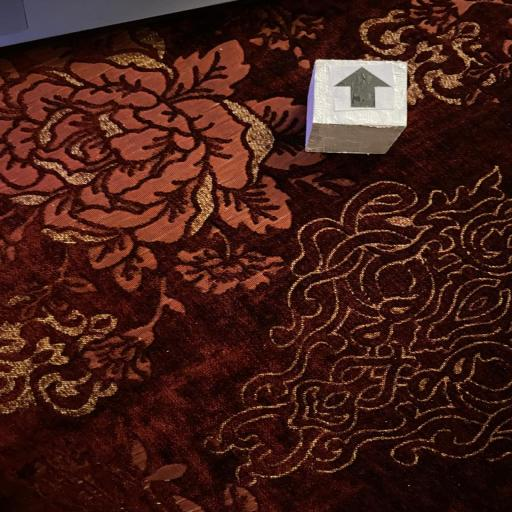Up: (305, 59, 410, 154)
